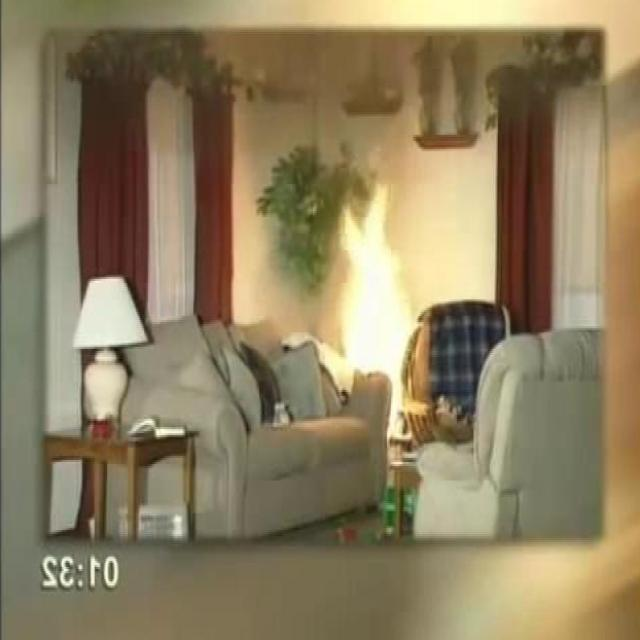smoke: (316, 168, 450, 438)
